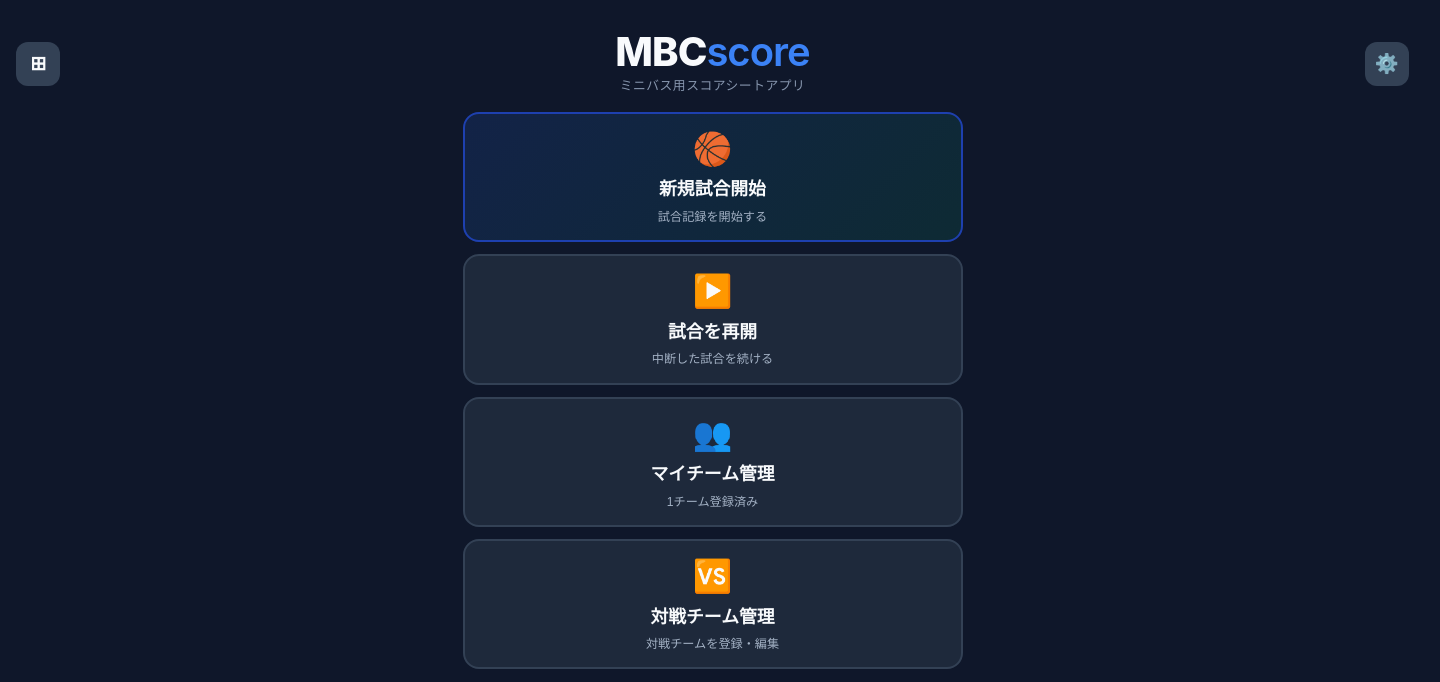
Scenario: 交代要員のテクニカル: 6個目以降の確認 › 確認で「やめる」を押すと選手選択に留まる
Click the text "試合を再開" at x=713, y=330, box [668, 317, 757, 343]
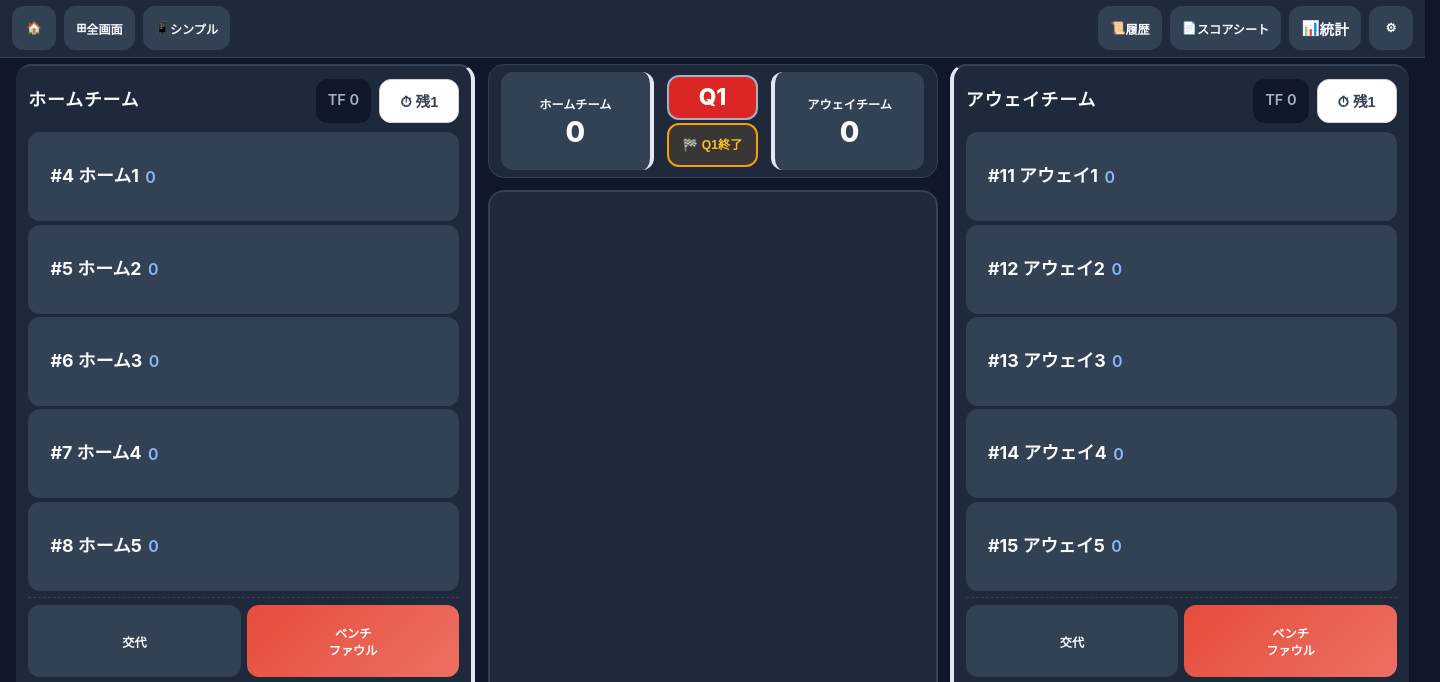
Click the 1st button "ベンチファウル" at x=353, y=641, box [247, 605, 459, 678]
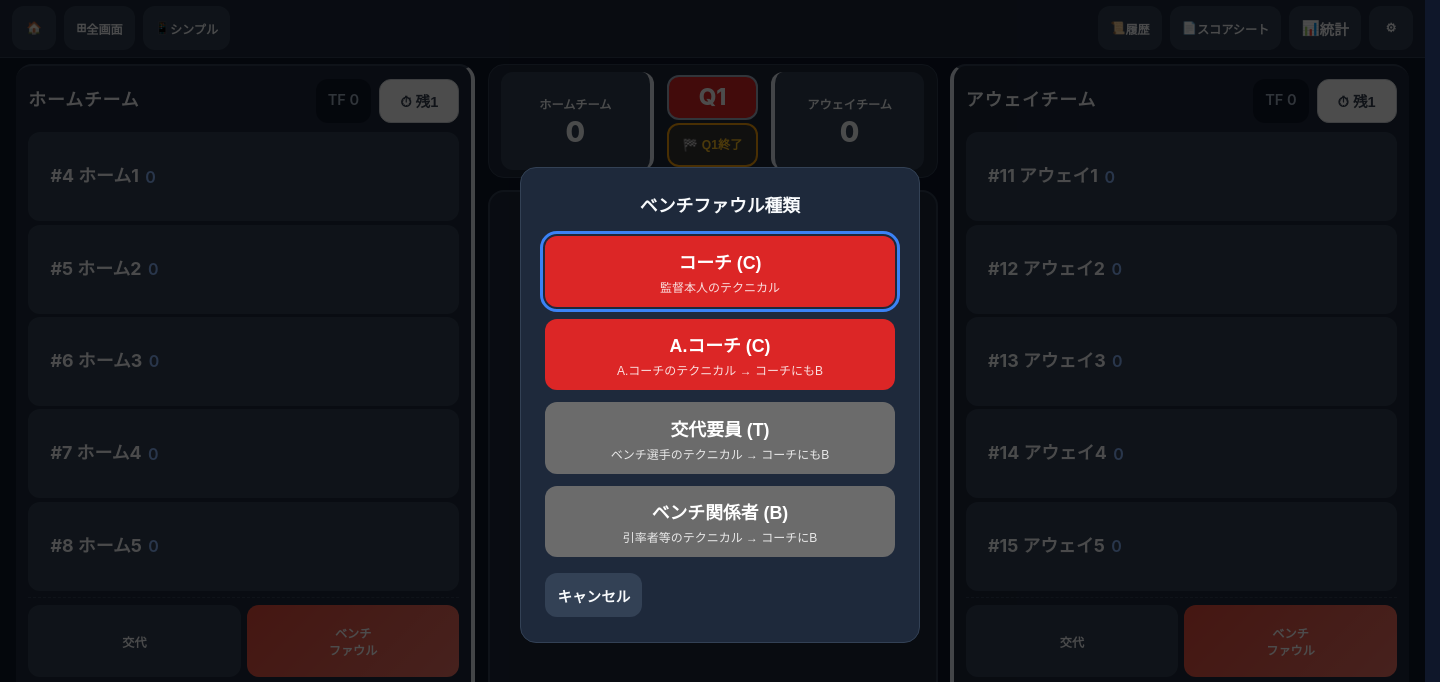
Click the button "交代要員 (T) ベンチ選手のテクニカル → コーチにもB" at x=720, y=438, box [545, 402, 895, 474]
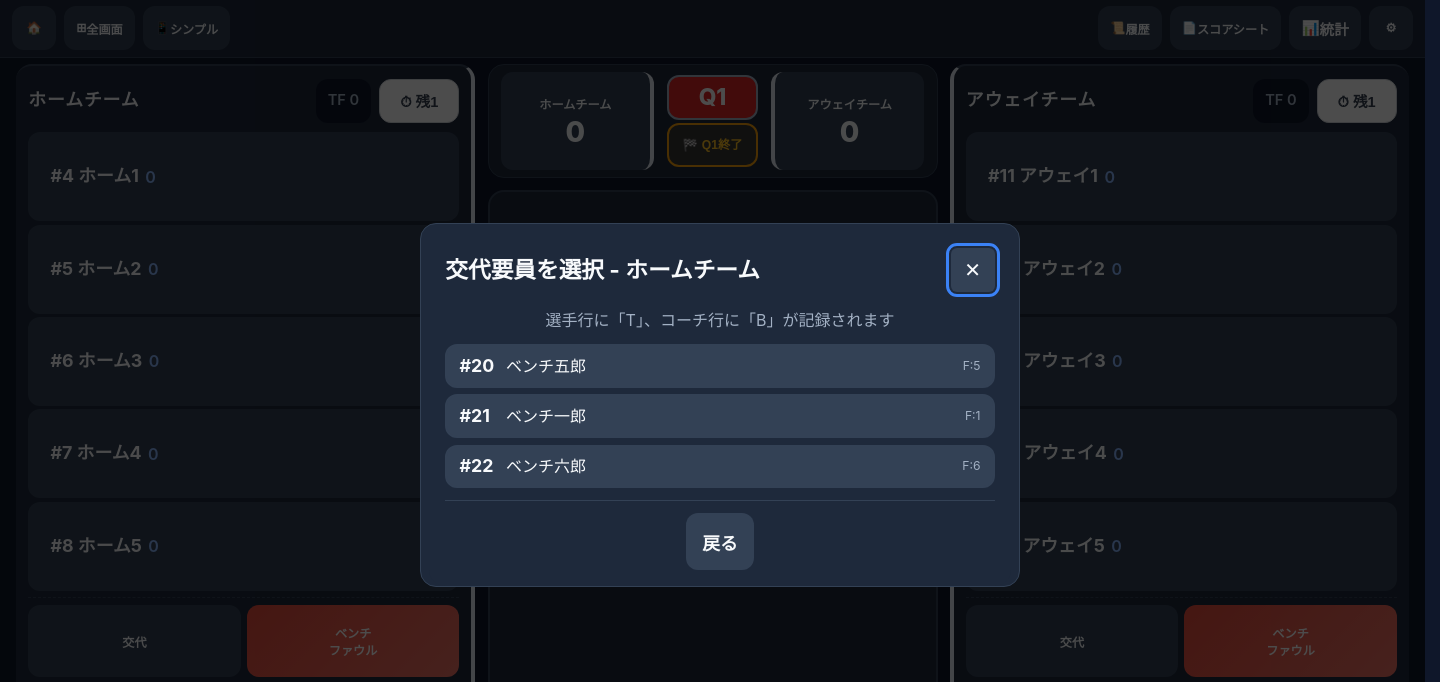
Click the button "#20 ベンチ五郎 F:5" at x=546, y=366, box [445, 344, 995, 388]
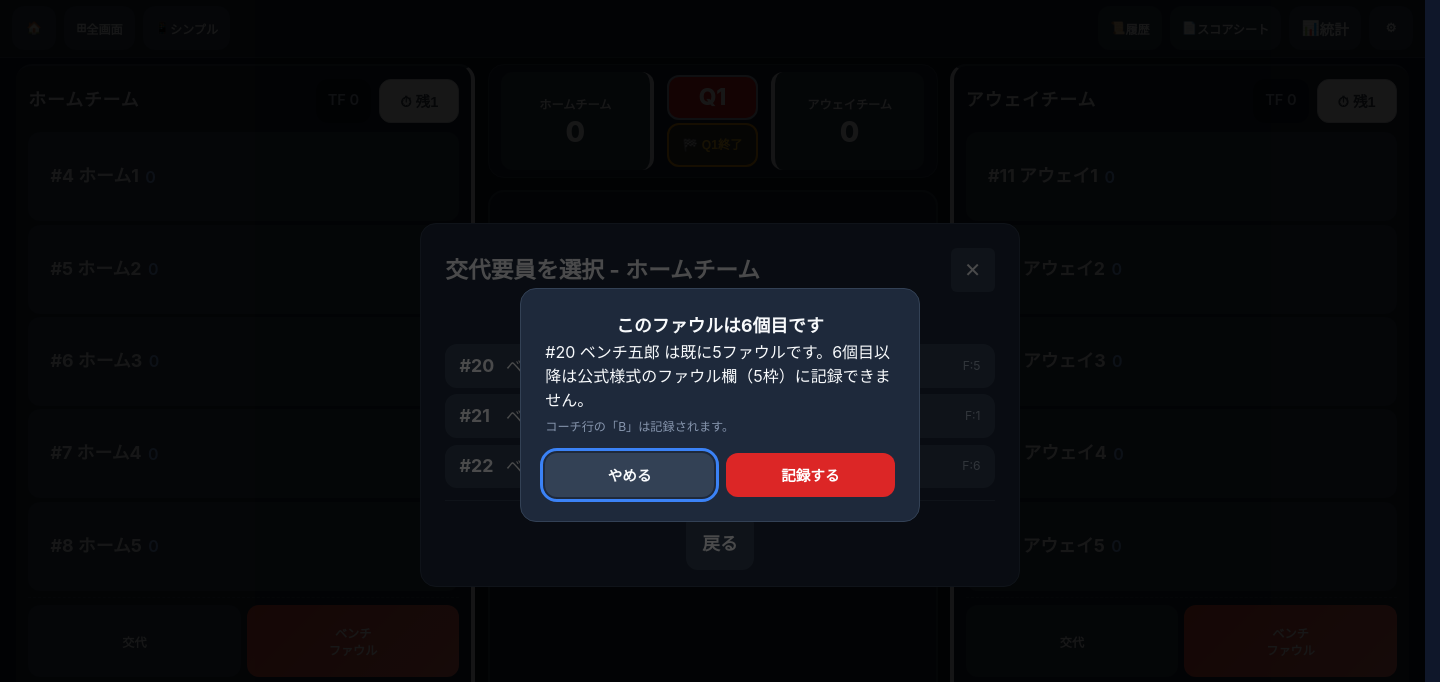
Click the button "やめる" at x=630, y=475, box [545, 453, 714, 497]
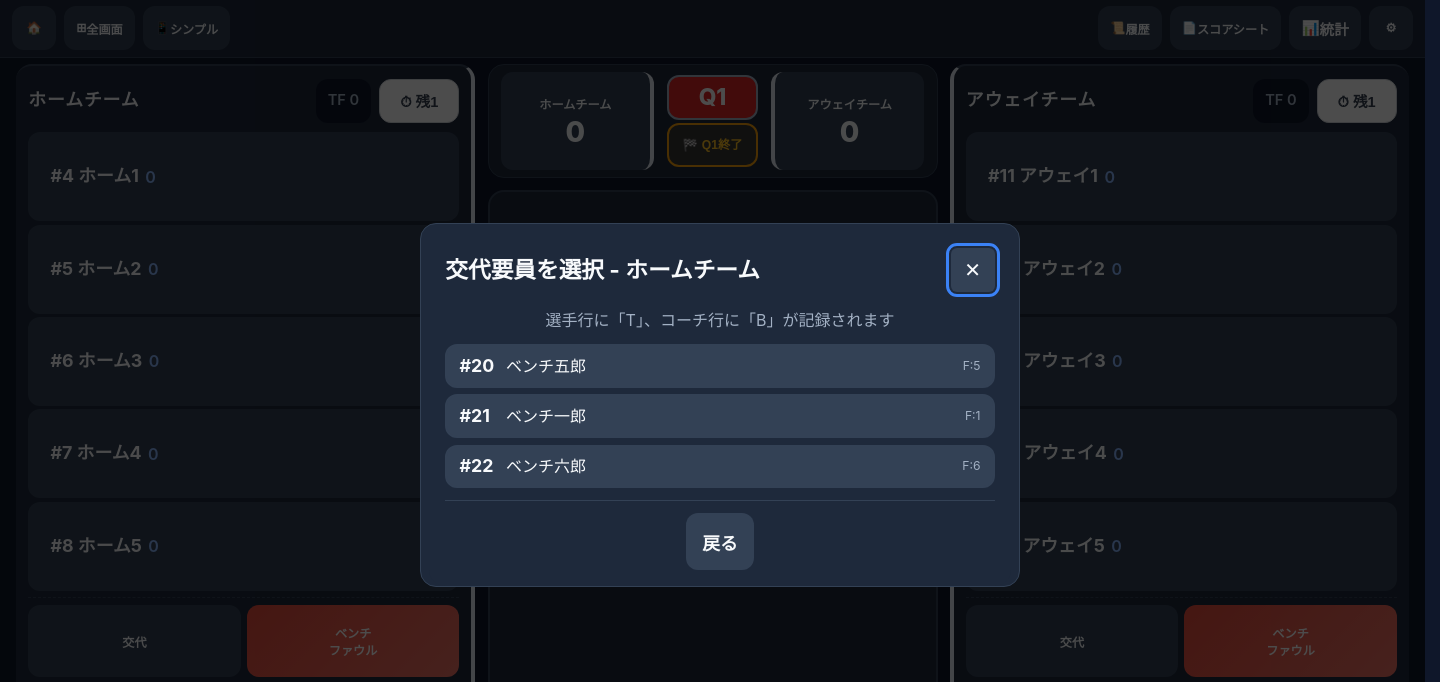
Expected: the heading "交代要員を選択 - ホームチーム" is shown, [445, 253, 760, 287]
Expected: the heading "このファウルは6個目です" is gone
